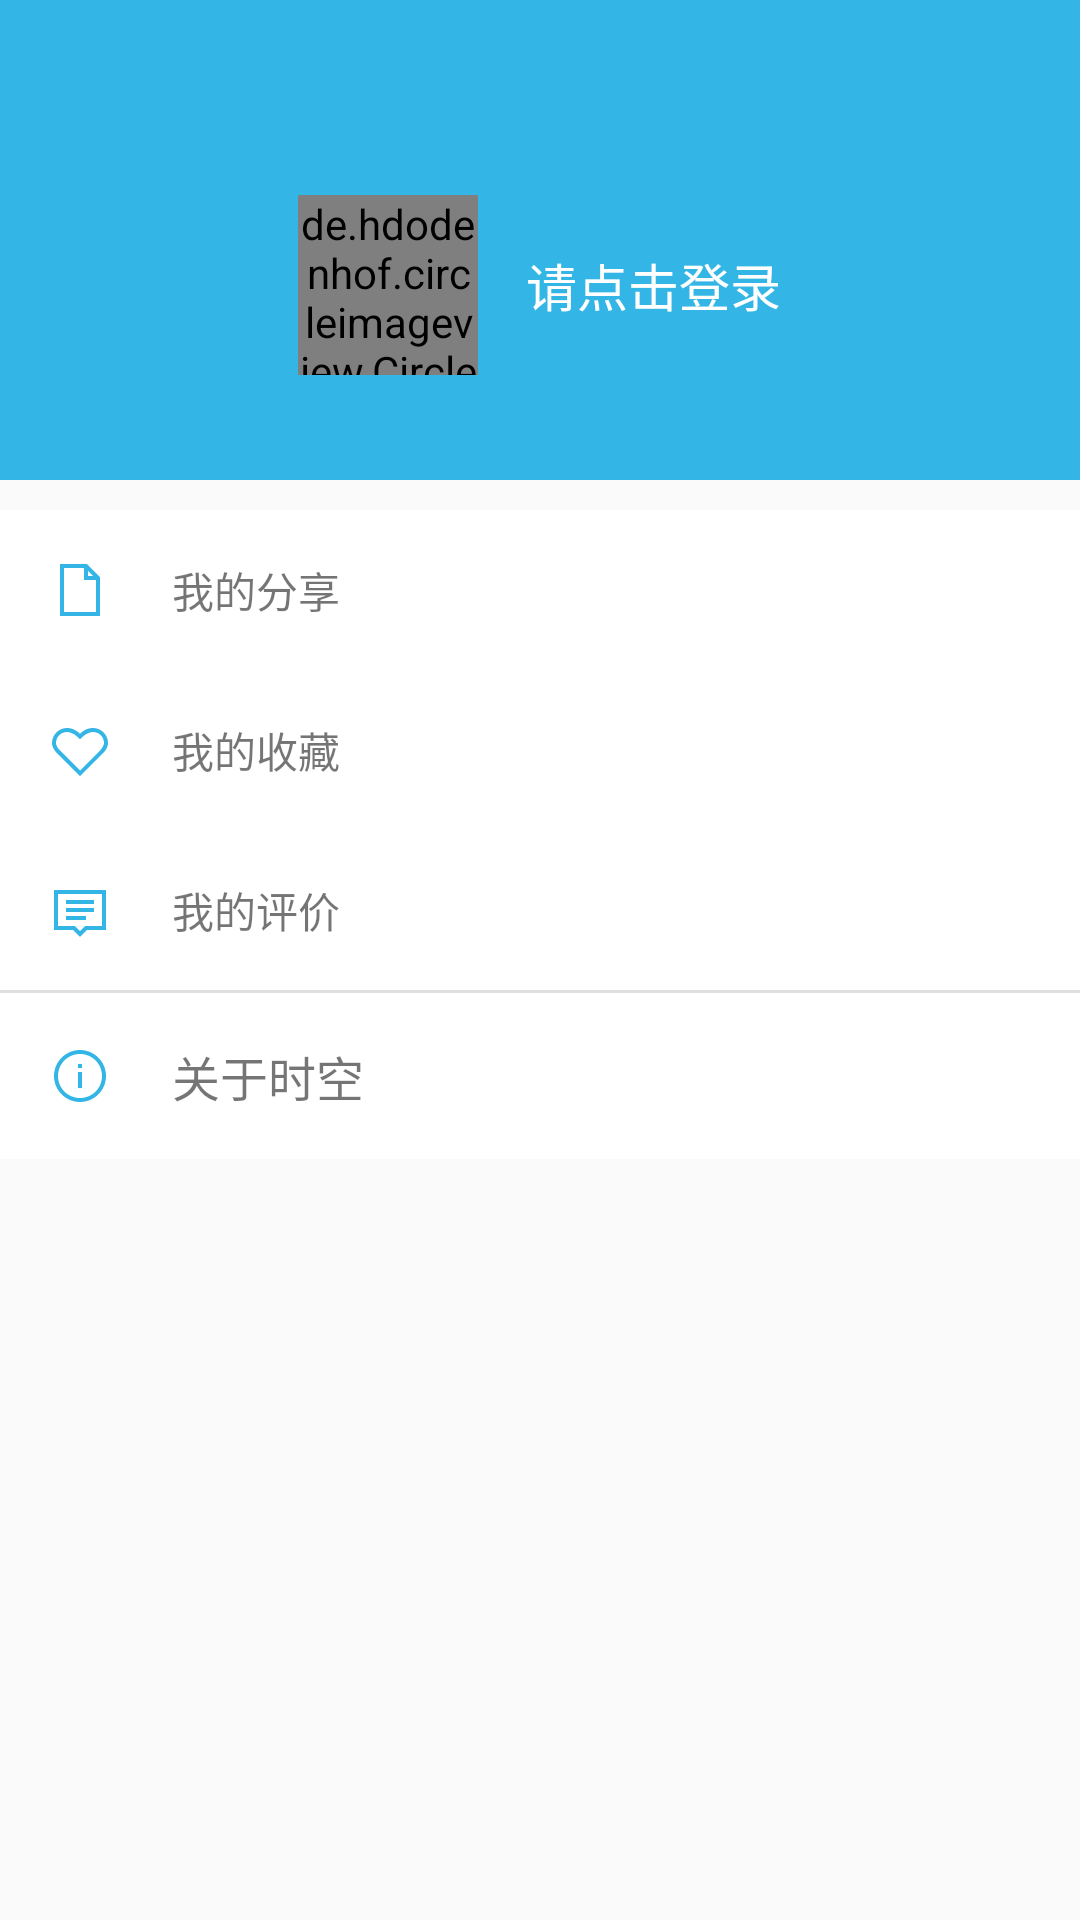

Named icons in this screenshot (1080px×1920px) and their bounding boxes, (x1, y1, x2, y2):
about: (54, 1050, 106, 1102)
article: (60, 564, 100, 616)
collect: (52, 728, 108, 776)
comment: (54, 890, 106, 937)
